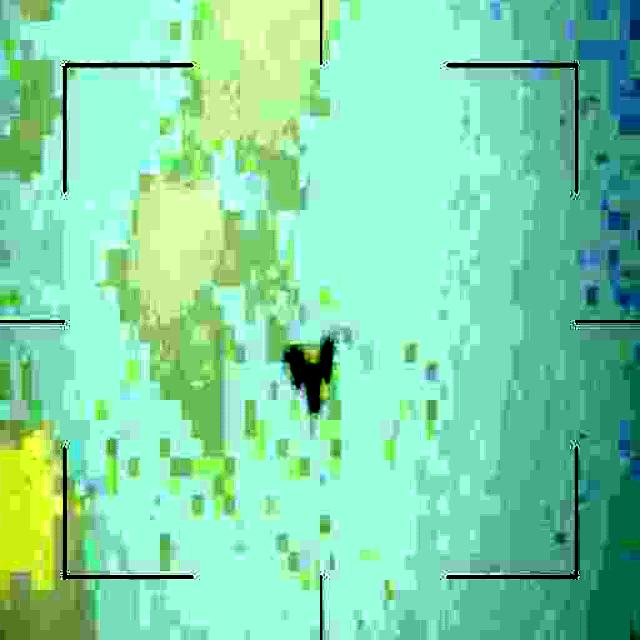bird: (286, 338, 339, 411)
